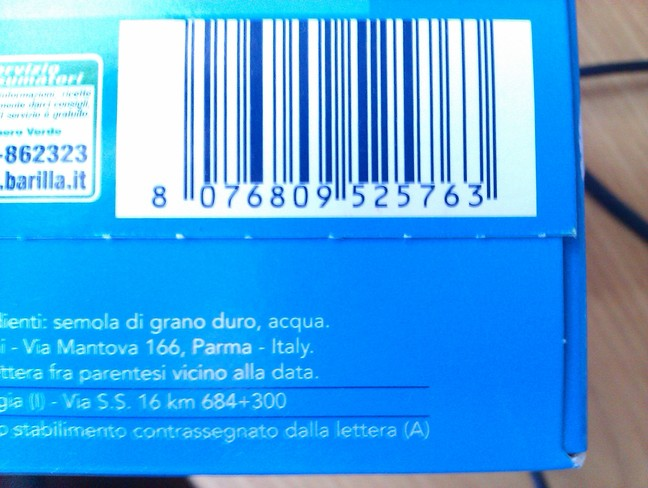detection: (116, 21, 536, 215)
